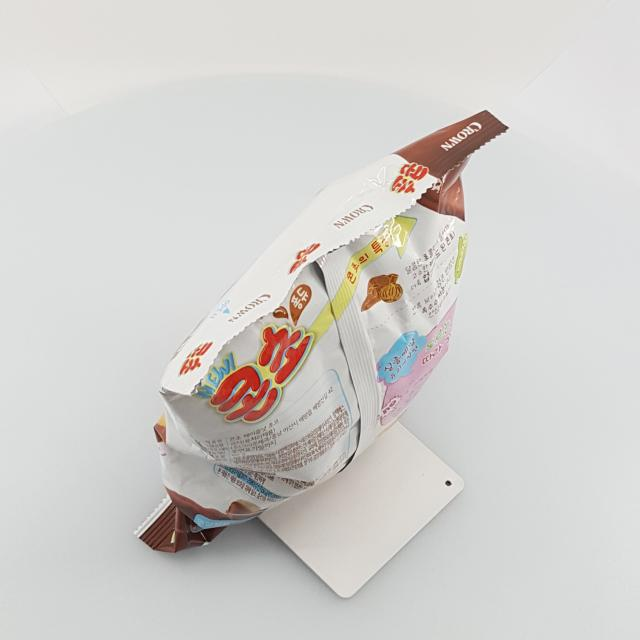-66G: (134, 111, 511, 554)
